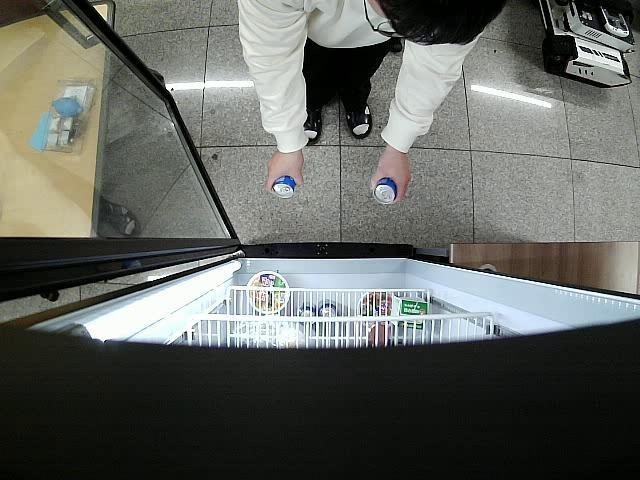15_letsbe: (372, 177, 397, 204), (272, 176, 298, 198)
